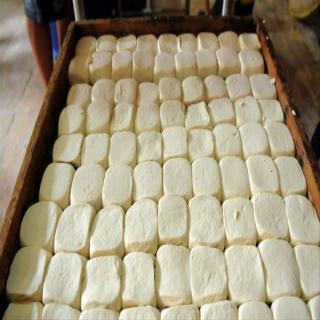Tahu: (248, 182, 294, 249), (121, 239, 160, 313), (54, 201, 99, 261), (188, 244, 231, 306), (157, 189, 191, 251), (192, 157, 225, 206), (133, 157, 165, 205), (237, 122, 274, 162), (80, 132, 112, 172), (161, 120, 190, 164), (207, 95, 238, 129)
